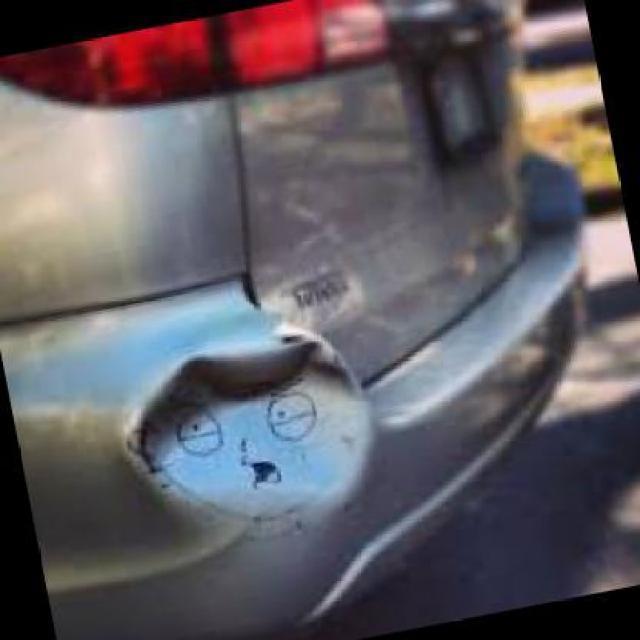dent: (134, 328, 369, 520)
